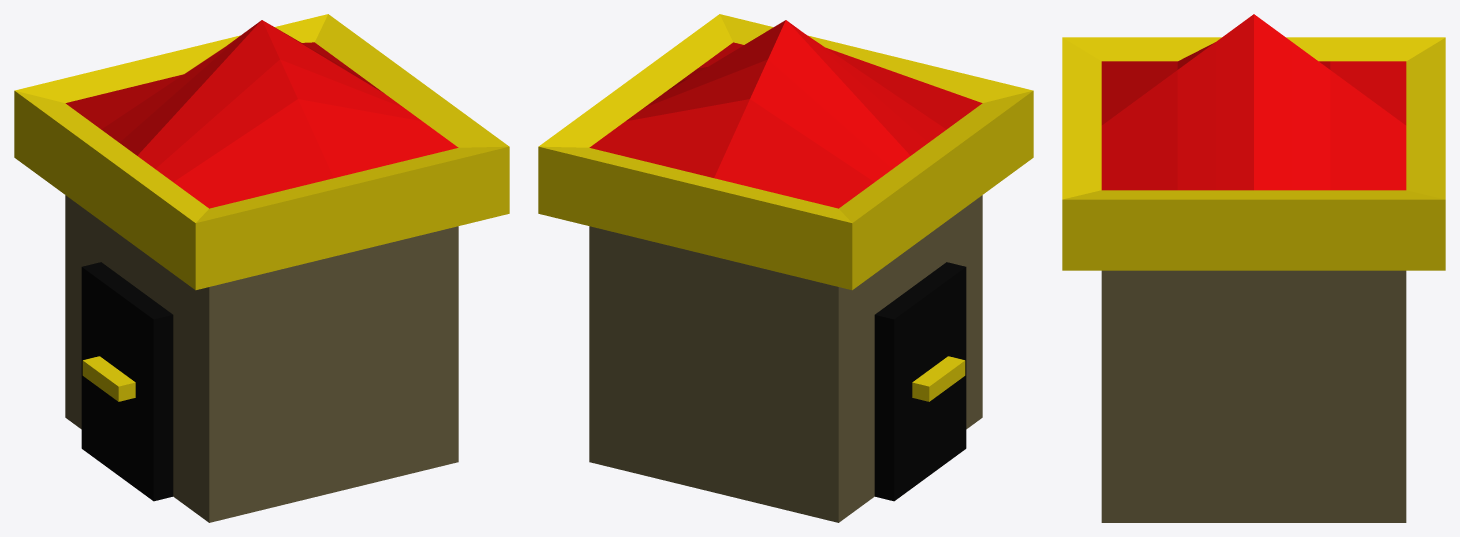
The model's file is hut.glb.
3 views of the same model, side by side, from view 1: azimuth 30°, elevation 25°; view 2: azimuth 150°, elevation 25°; view 3: azimuth 270°, elevation 25° (orthographic). The views are drawn at different scales.
Visible parts, largest first — view 1: Cube; view 2: Cube; view 3: Cube.
Part boxes in pixels (box(x1,y1,x2,y2)): Cube: box(14, 14, 509, 522); Cube: box(538, 14, 1033, 522); Cube: box(1062, 14, 1445, 522).
Bounding box in the file's own units: 9.57 × 12.06 × 9.43.
